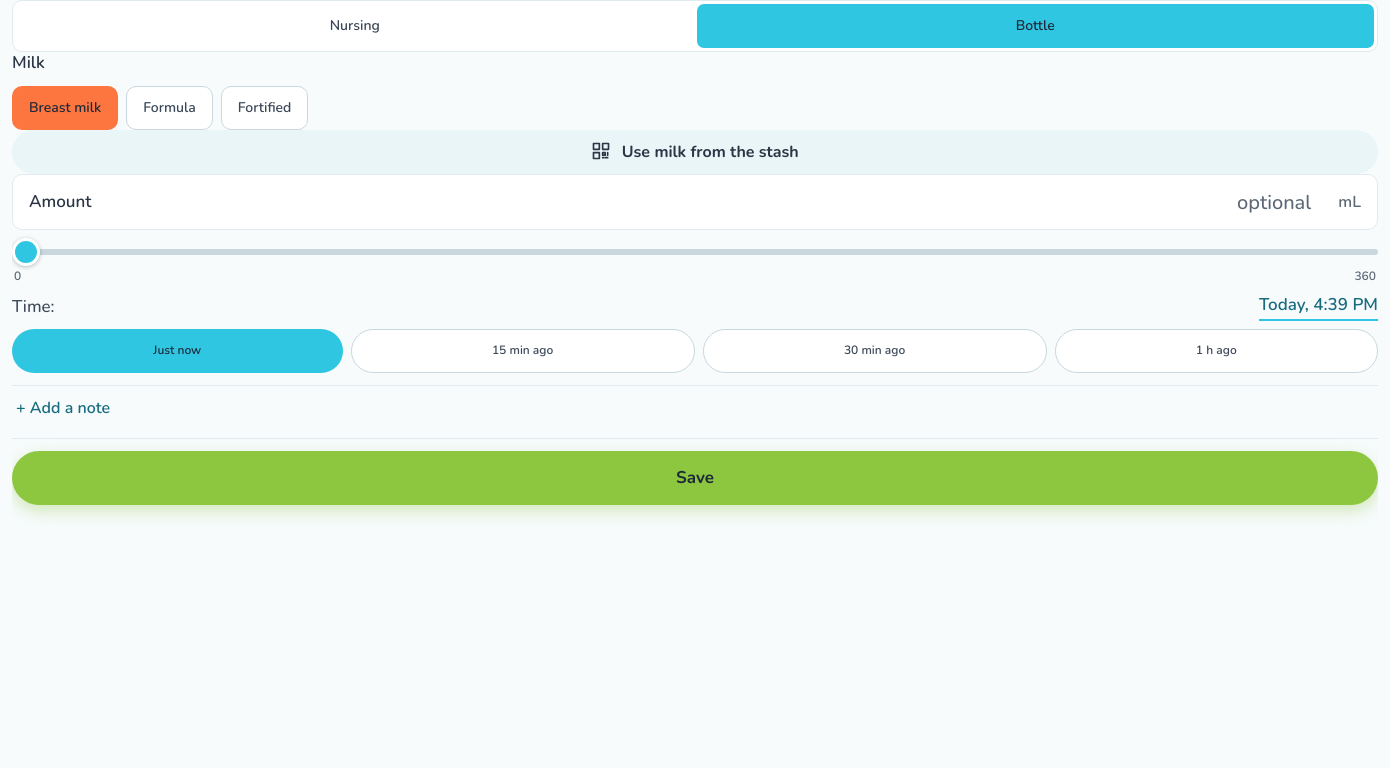
Test: FeedingSheet › says, without blocking Save, that an amount looks like a slip
Type "9999" into the number field named "Amount in mL".
click(715, 202); type("9999")  # box [104, 178, 1326, 226]
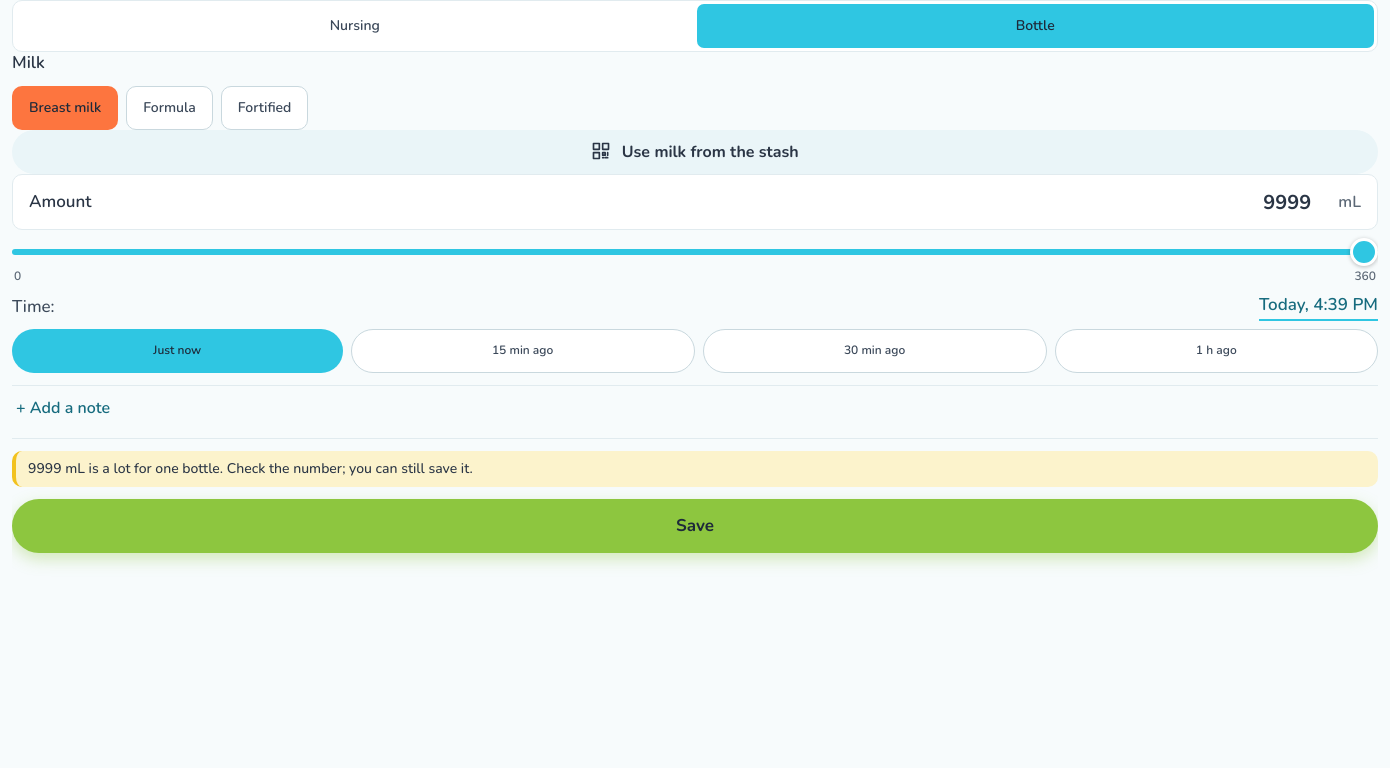
expect the button "Save" is enabled: met, box [12, 499, 1378, 553]
expect the text "9999 mL is a lot for one bottle. Check the number; you can still save it." is shown: met, box [12, 451, 1378, 487]
